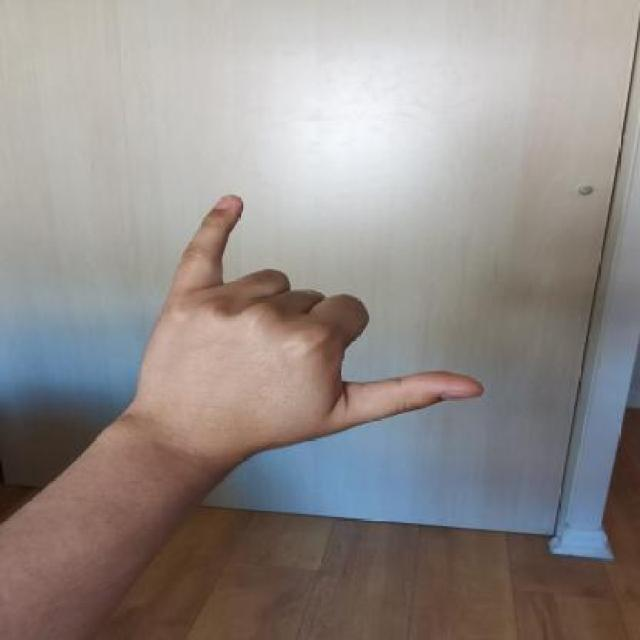Y: (133, 182, 498, 466)
